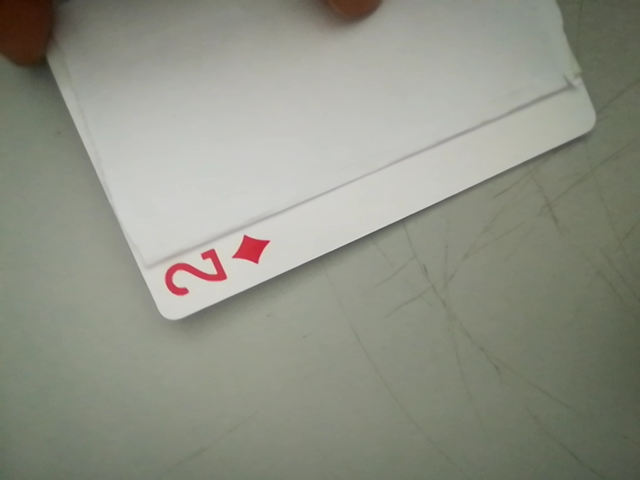fk 2: (150, 230, 273, 308)
